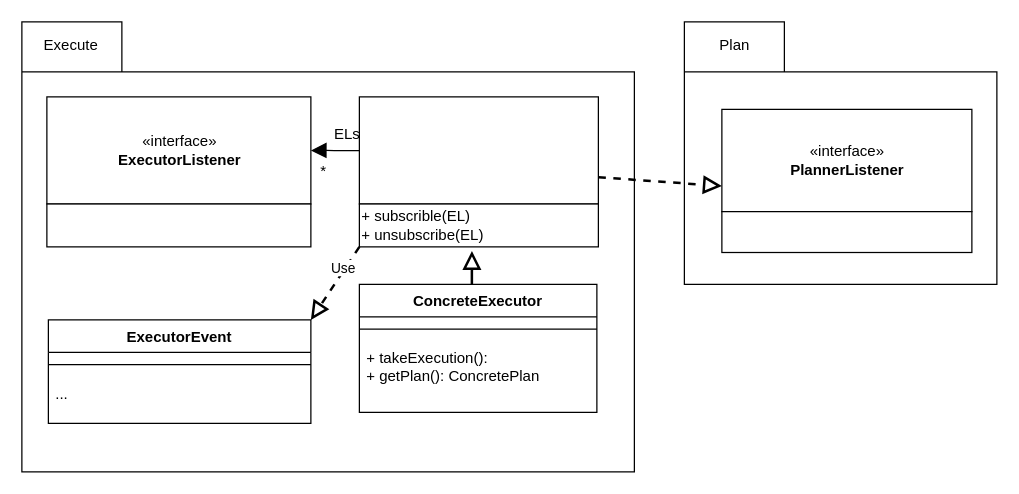
Image size: 1019x494. Some labels were removed from this diagram. Here are the shapes that lost their labels. From the top down, the centre of each, then its label:
At [478,150]: "«interface» Executor".
At [178,225]: "+newEvent(ExecutorEvent)".
At [846,231]: "+ newPlan(PlanEvent)".
